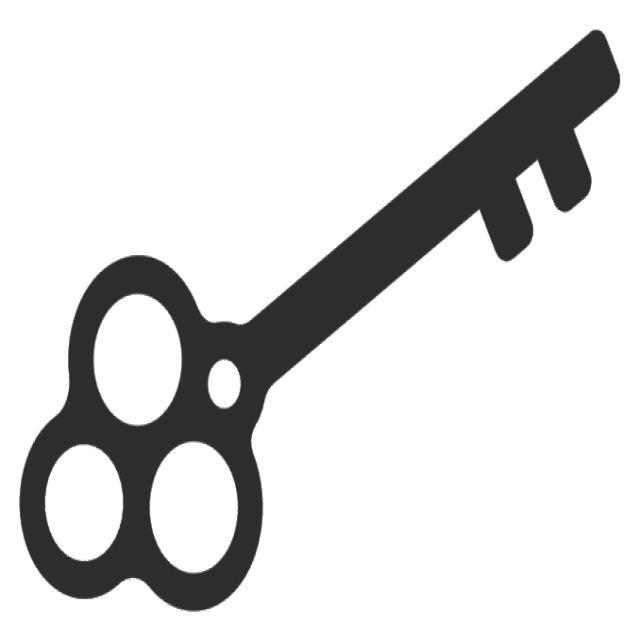key: (9, 21, 631, 625)
